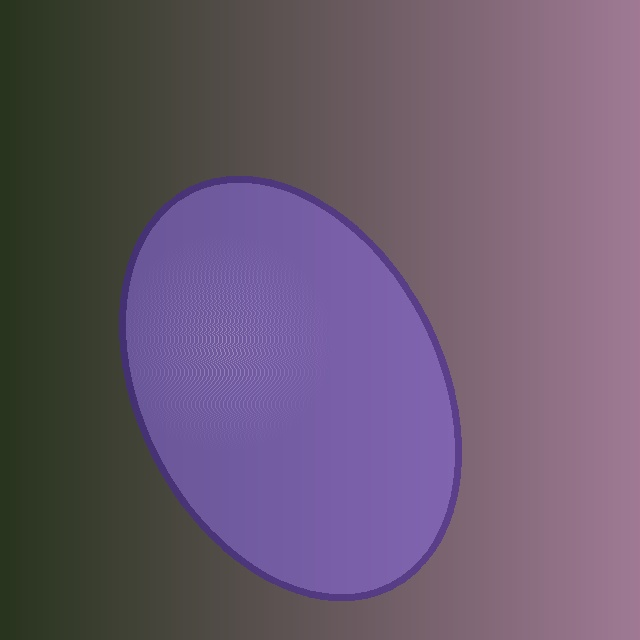lens: (123, 179, 457, 597)
